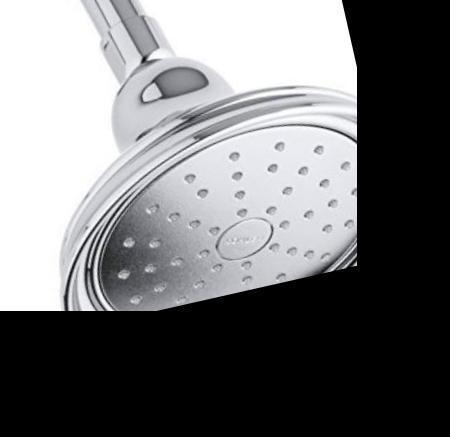Ducha: (0, 0, 399, 354)
